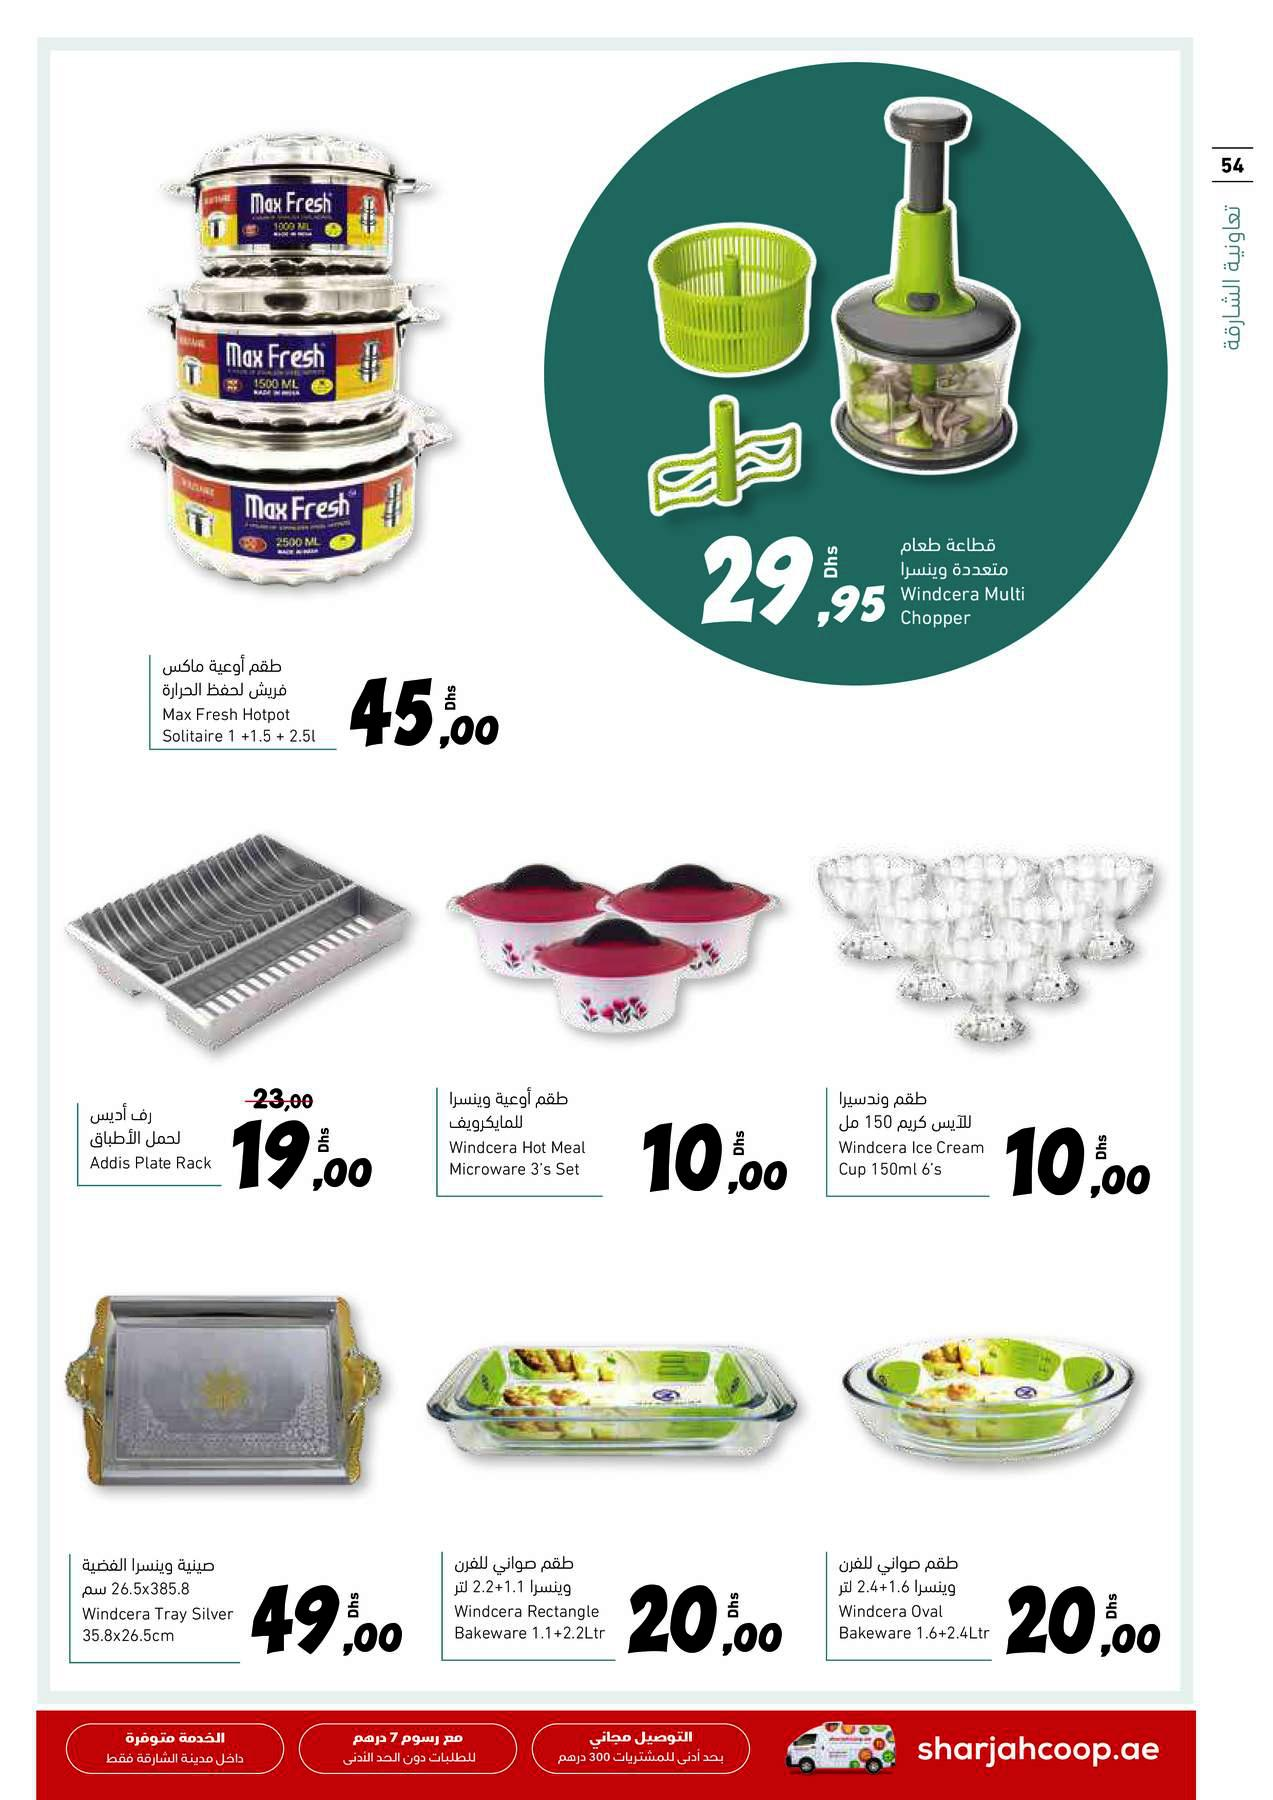text: (74, 1547, 255, 1604), (154, 649, 322, 707), (437, 1136, 621, 1186), (831, 1081, 991, 1138), (446, 1545, 601, 1602), (828, 1600, 1000, 1650), (152, 702, 333, 746), (439, 1081, 591, 1133), (829, 1138, 997, 1184), (446, 1602, 614, 1649), (896, 523, 1028, 583), (831, 1545, 978, 1598), (896, 581, 1031, 636), (85, 1096, 209, 1154), (83, 1147, 223, 1180)
